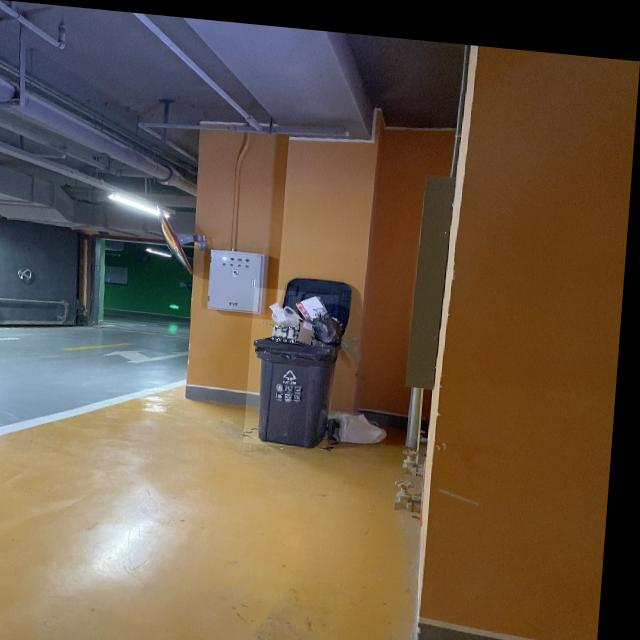garbage: (329, 403, 394, 438)
overflow: (250, 282, 343, 443)
